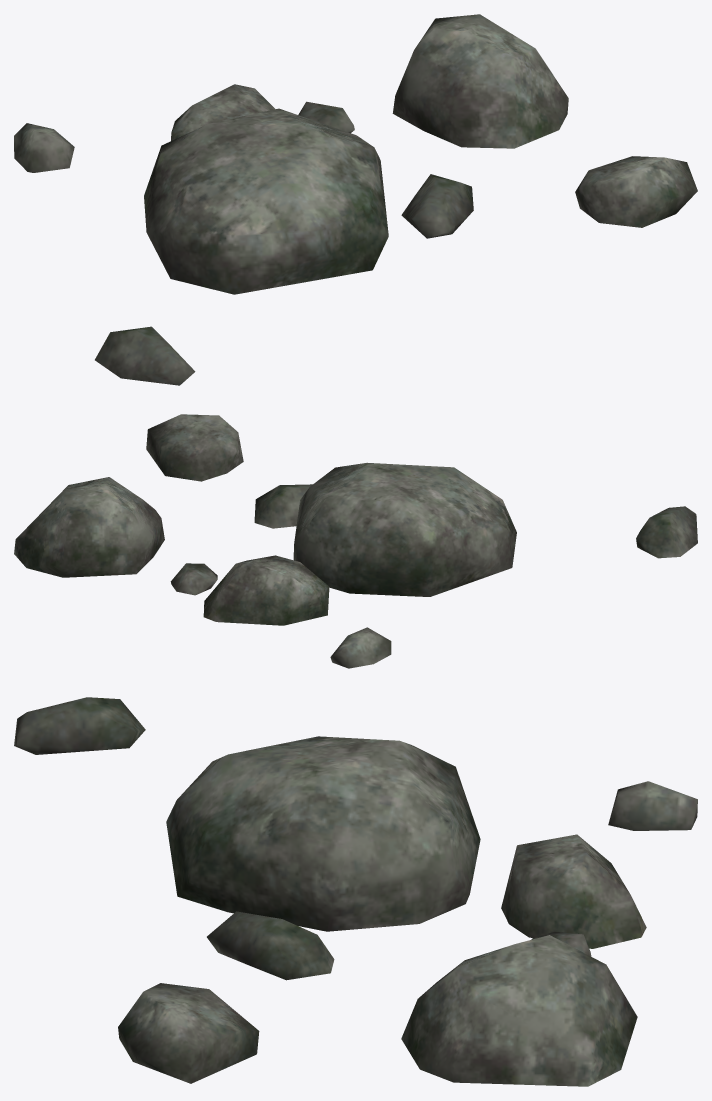
Rendered from Rock.fbx.
3 renders of one model, top to bottom at view 1: azimuth 30°, elevation 25°; view 2: azimuth 150°, elevation 25°; view 3: azimuth 270°, elevation 25°, orthographic. The views are drawn at different scales.
Parts seen in each view (by area): view 1: SM_d_114_Stone_01a; view 2: SM_d_114_Stone_01a; view 3: SM_d_114_Stone_01a.
Boxes of the visible parts, <box> form: SM_d_114_Stone_01a: <box>14,14,697,385</box>; SM_d_114_Stone_01a: <box>14,414,697,668</box>; SM_d_114_Stone_01a: <box>14,697,697,1086</box>.
Bounding box in the file's own units: 108 × 17.11 × 85.66.
